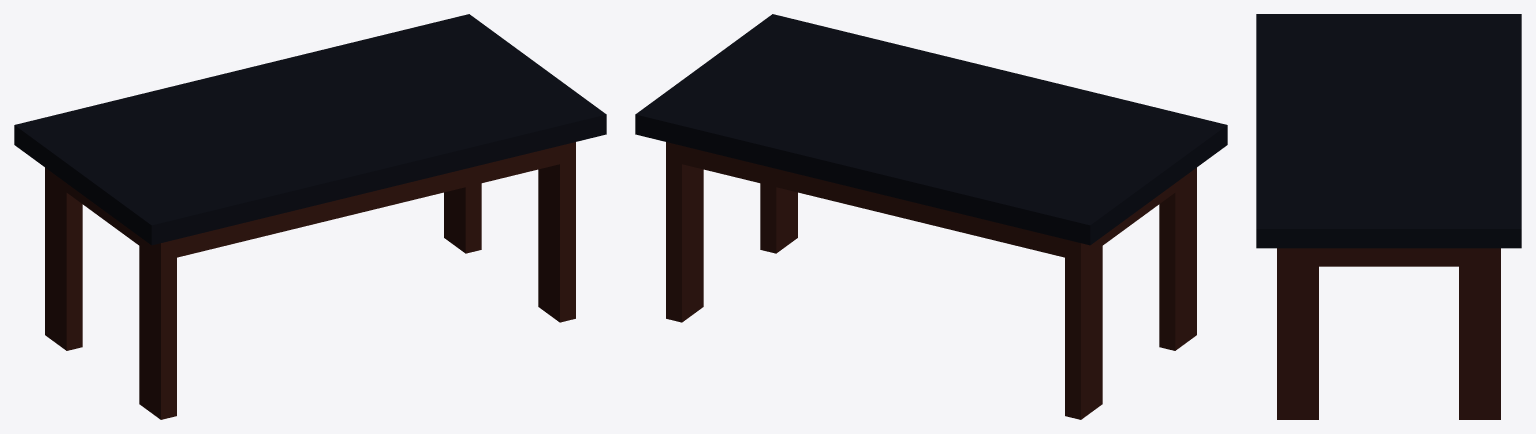
The model's file is desk.fbx.
The picture shows the model from 3 angles, left to right: view 1: azimuth 30°, elevation 25°; view 2: azimuth 150°, elevation 25°; view 3: azimuth 270°, elevation 25°; orthographic projection. The views are drawn at different scales.
Visible parts, largest first — view 1: Cube; view 2: Cube; view 3: Cube.
Boxes of the visible parts, bbox=[...] form: Cube: bbox=[14, 14, 606, 419]; Cube: bbox=[635, 14, 1227, 419]; Cube: bbox=[1256, 14, 1521, 419].
Bounding box in the file's own units: 444 × 193 × 232.
